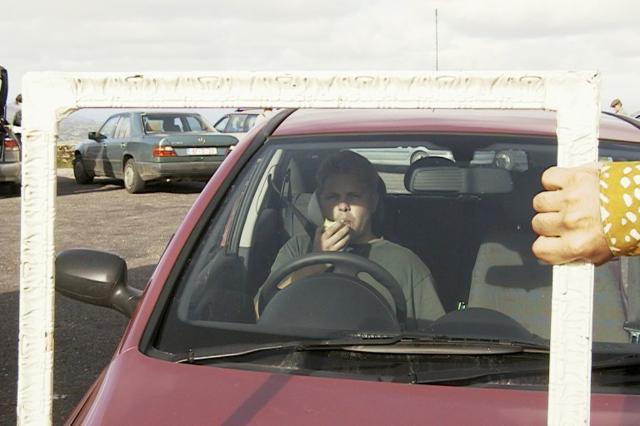Seatbelt: (272, 176, 320, 240)
